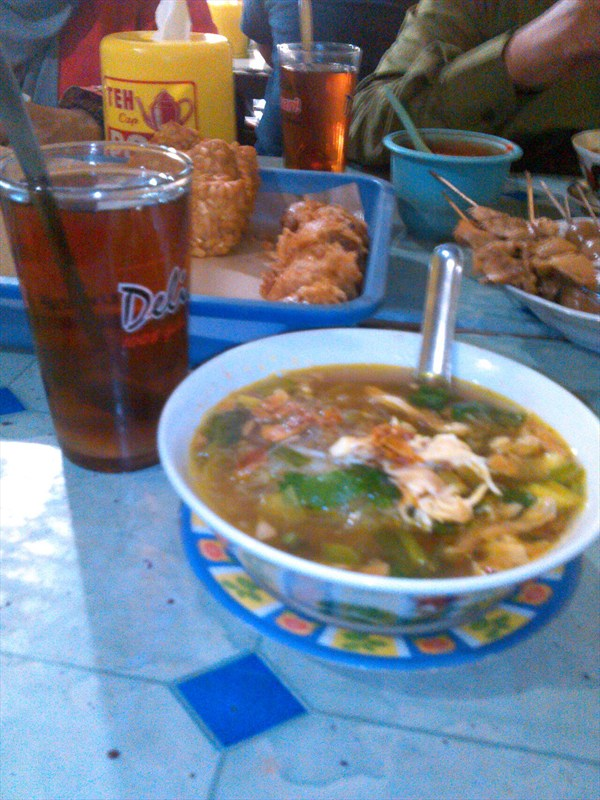Soto Ayam: (133, 45, 565, 721)
